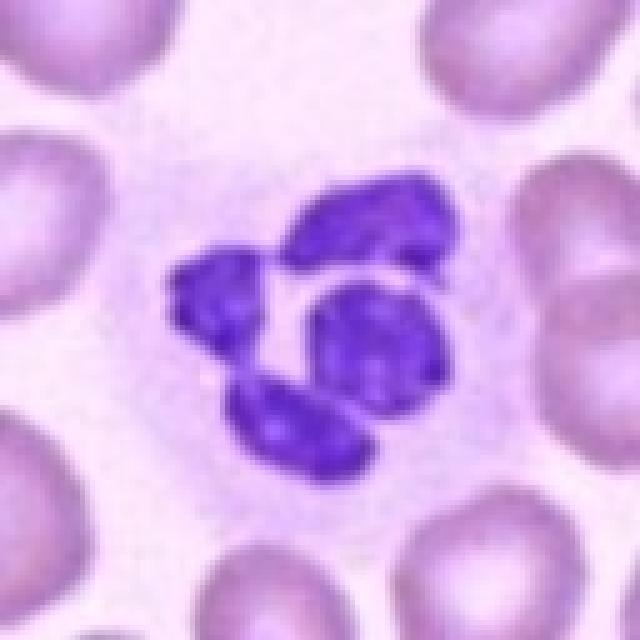neutro: (107, 88, 519, 518)
